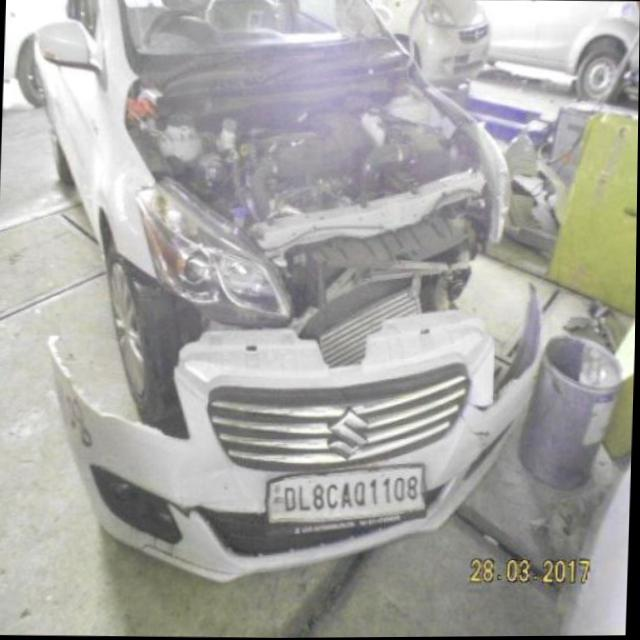Car-Damage: (115, 64, 502, 378)
